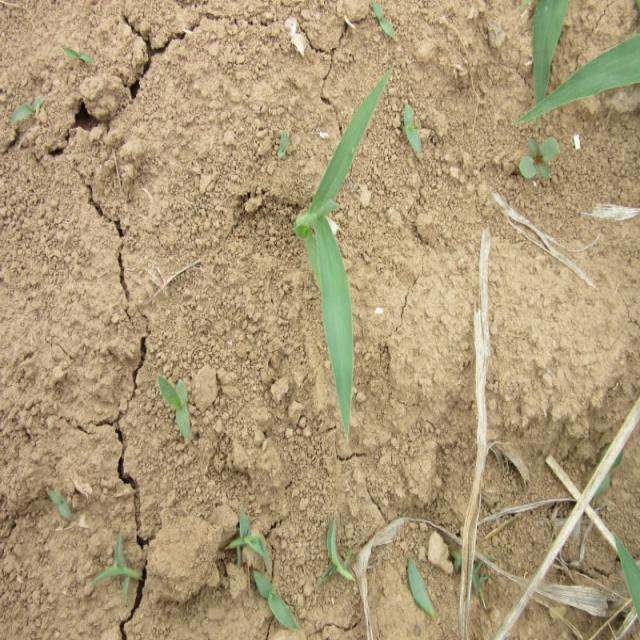bg: (294, 74, 385, 434)
